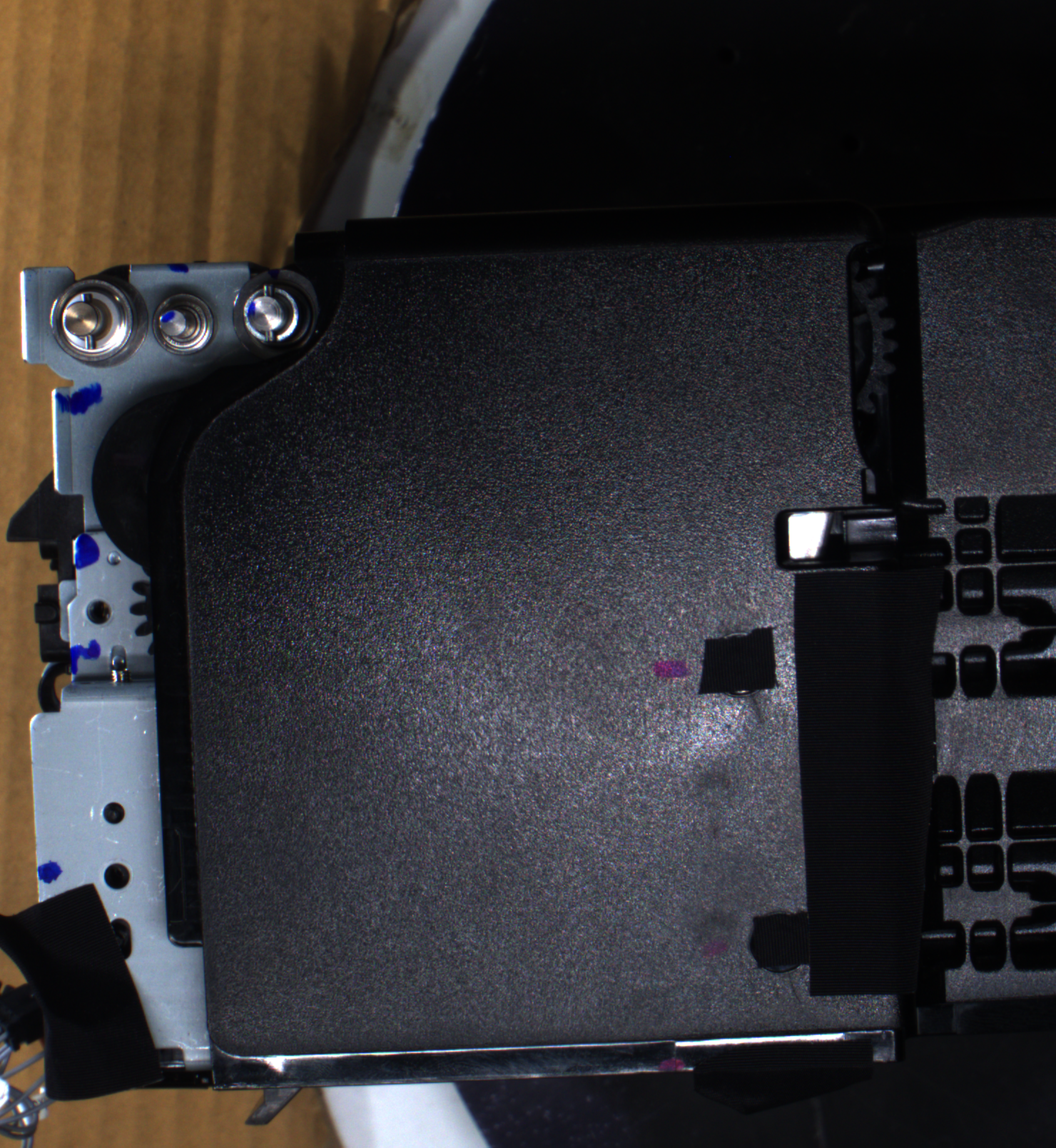gear1_absence: (47, 274, 148, 369)
gear2_absence: (145, 287, 219, 359)
gear3_absence: (228, 271, 323, 358)
side_screw_absence: (98, 858, 136, 896), (81, 595, 116, 630)
